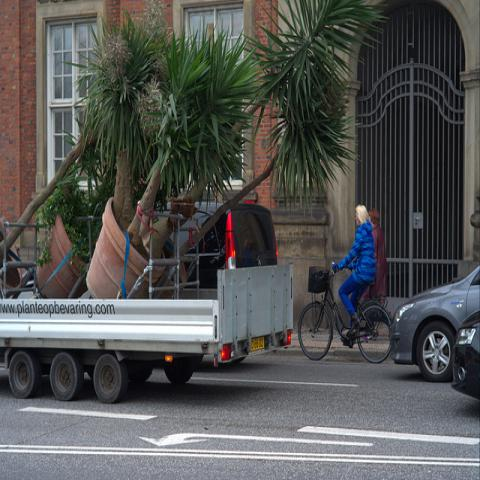car: (388, 264, 479, 384), (178, 201, 278, 300), (452, 322, 480, 400)
truck: (1, 220, 295, 401)
